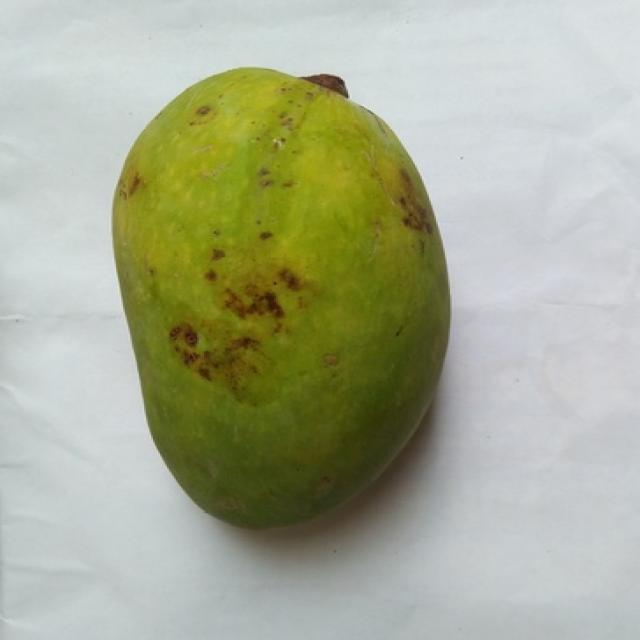Mango: (114, 67, 448, 527)
